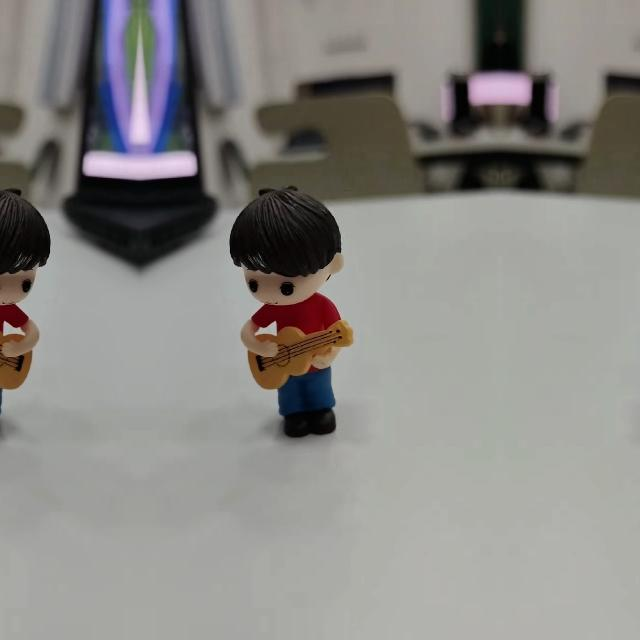man cloth: (255, 300, 343, 338), (0, 300, 25, 338)
man head: (225, 182, 348, 308), (0, 182, 55, 307)
trousers: (278, 368, 342, 444), (0, 368, 1, 443)
